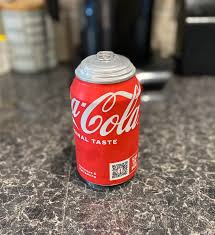can: (71, 51, 141, 188)
